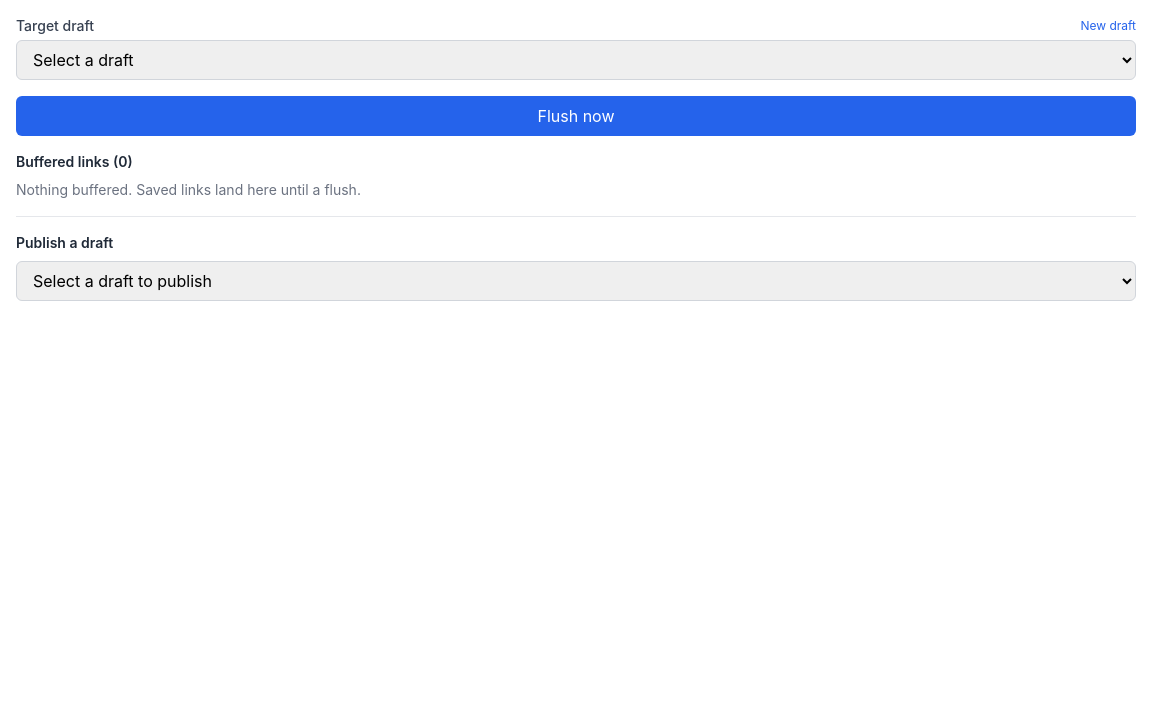
Test: Queue publish gate › does not blame the sidecar for a failure that came from the service
Select "Summer 2026 Tech Links — Curated Insights" in the 2nd dropdown. click: [576, 281]
box: [16,261,1136,301]
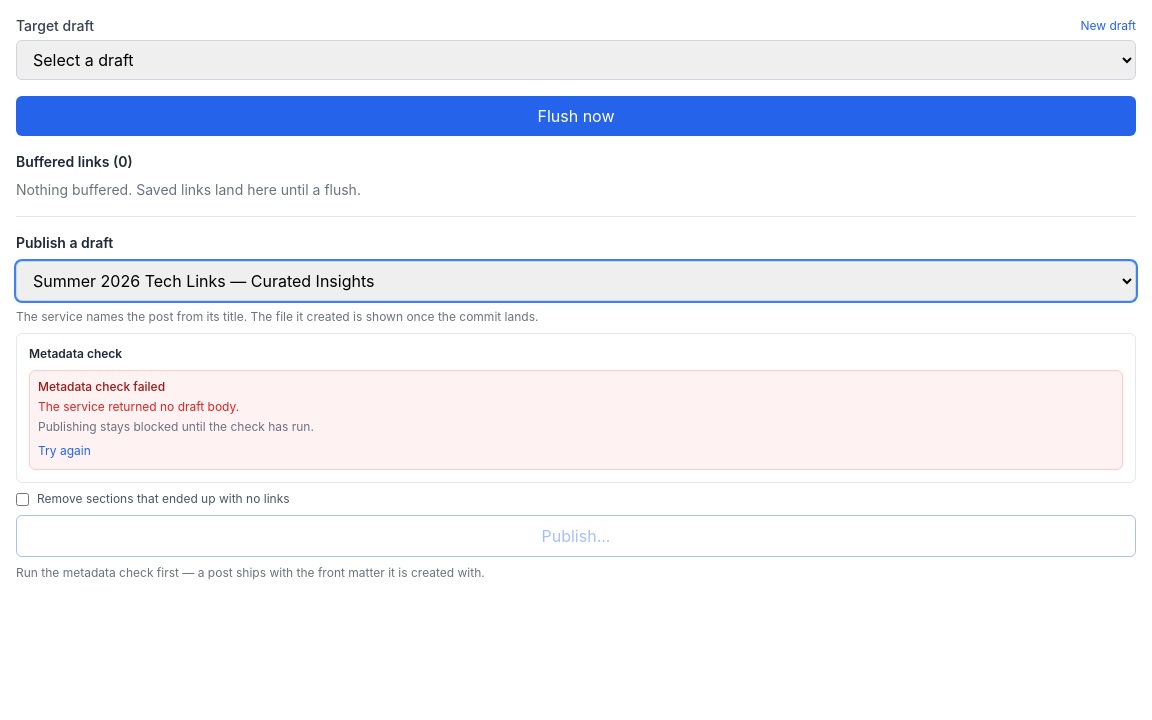
Expected: the text "The service returned no draft body." is shown, [38,399,239,414]
Expected: the button "Publish..." is disabled, [16,515,1136,557]
